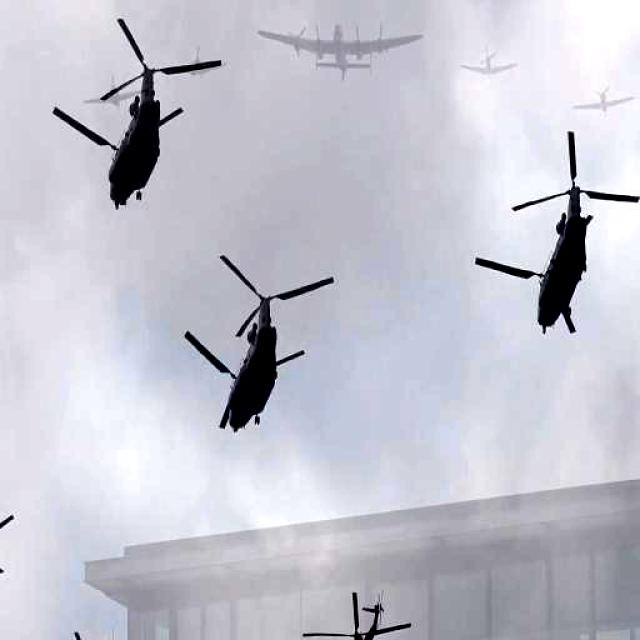0: (255, 21, 425, 90), (458, 45, 521, 82), (571, 84, 636, 116)
drone: (471, 121, 640, 344), (49, 10, 225, 220), (180, 244, 339, 441), (298, 579, 418, 640)
